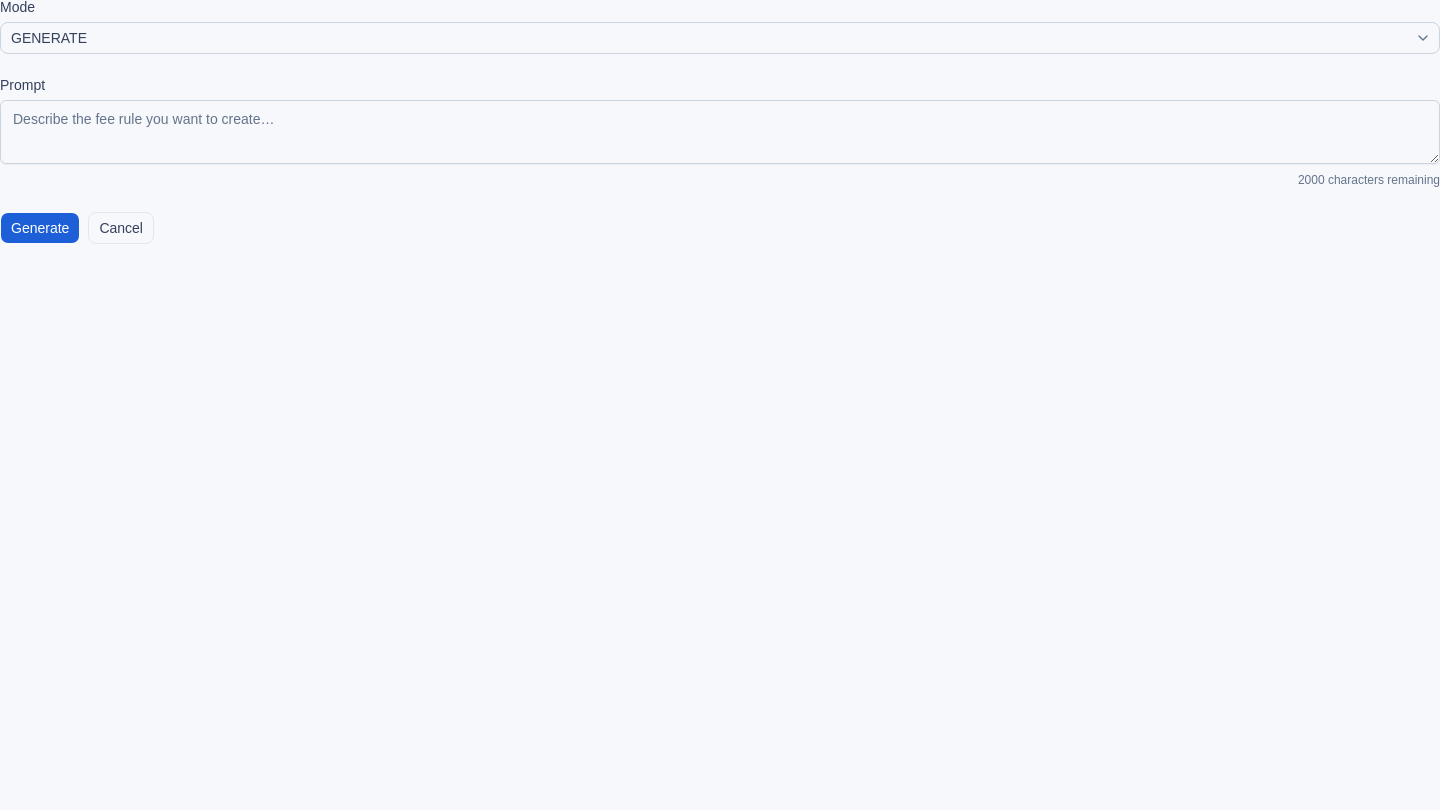
it: PromptForm › shows AlertDialog when Cancel is clicked with dirty prompt
In the text box labelled "Prompt": (720, 132) [0, 100, 1439, 164], type "some text"
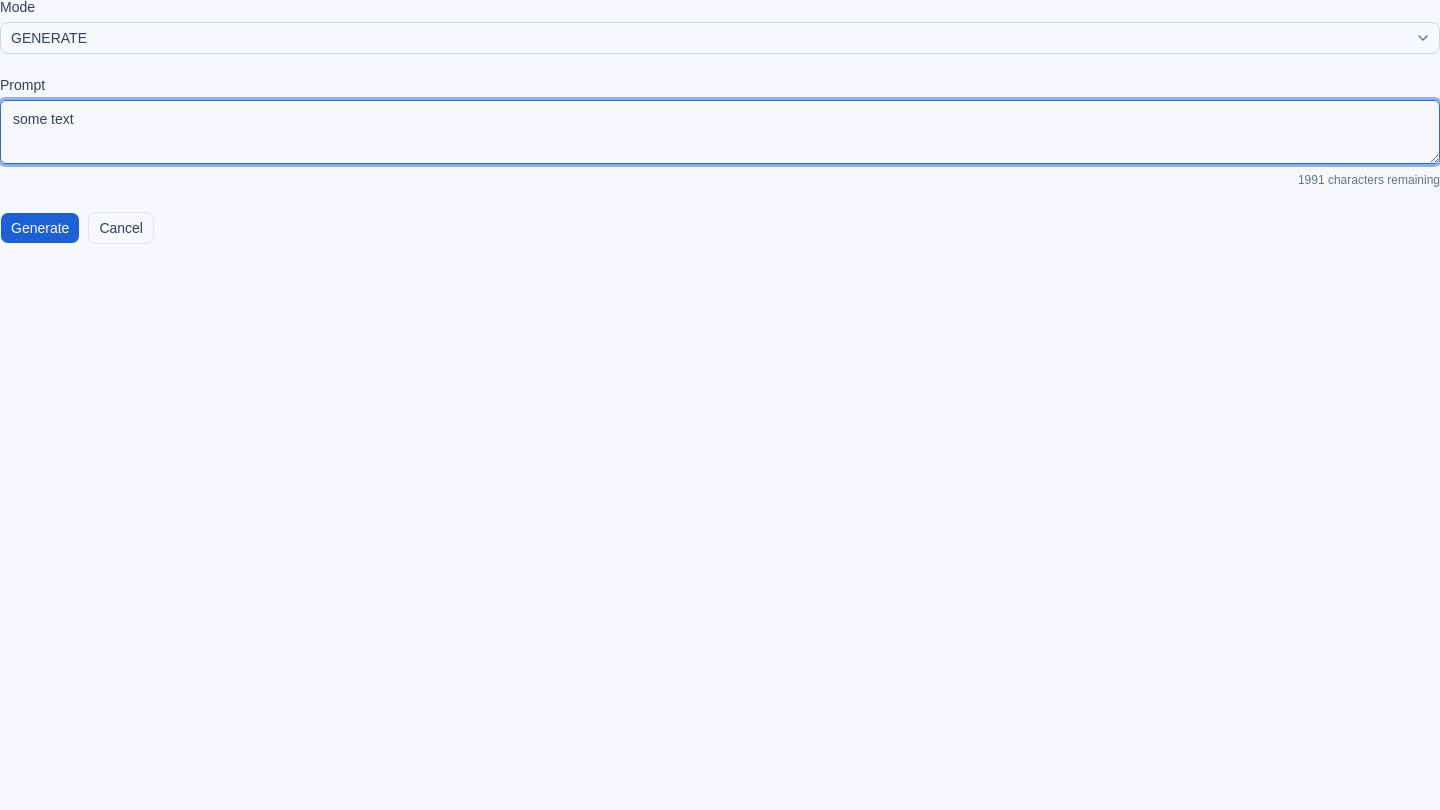
Click the button "Cancel": (121, 228) [88, 212, 154, 244]
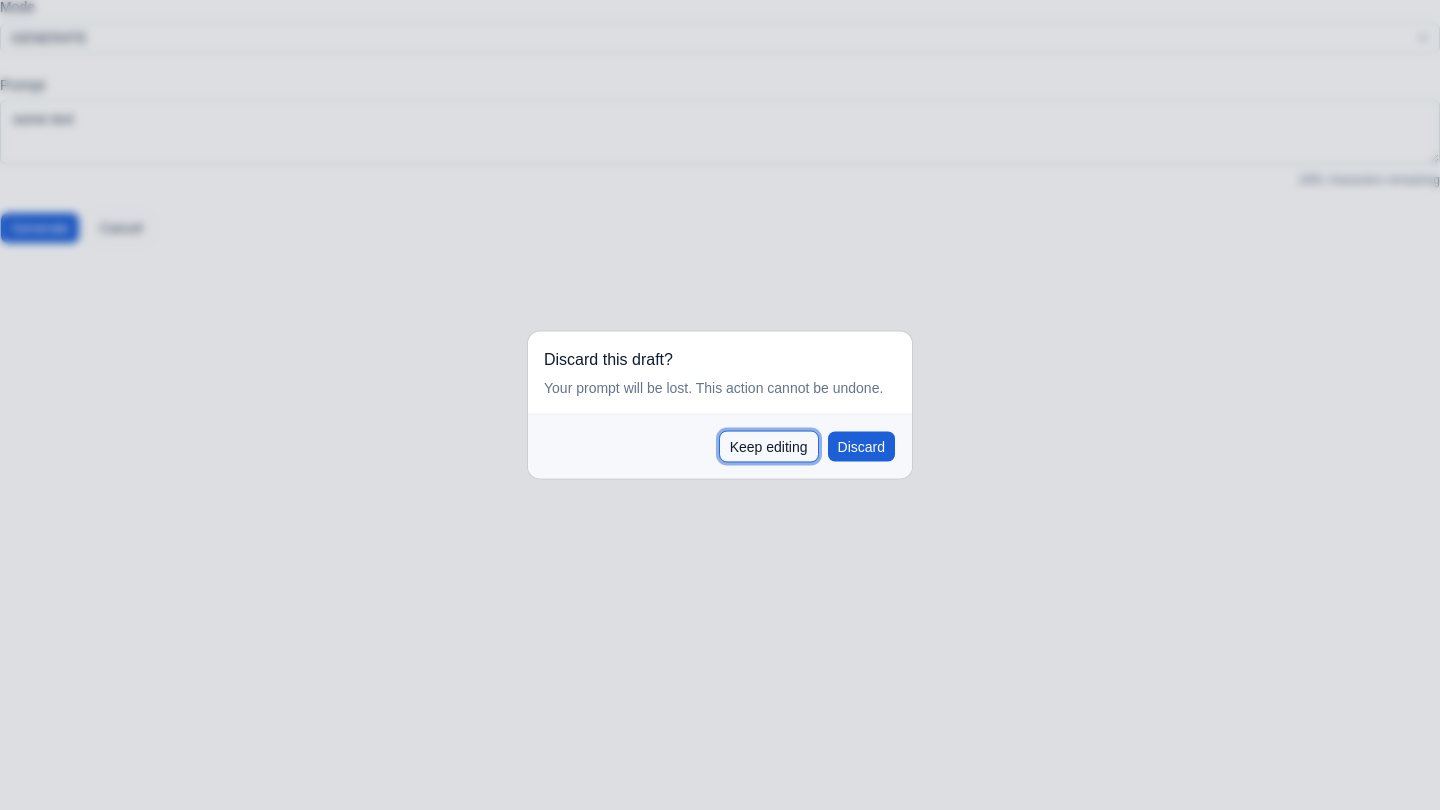
Result: the heading "Discard this draft?" is shown at [544, 348, 673, 372]
